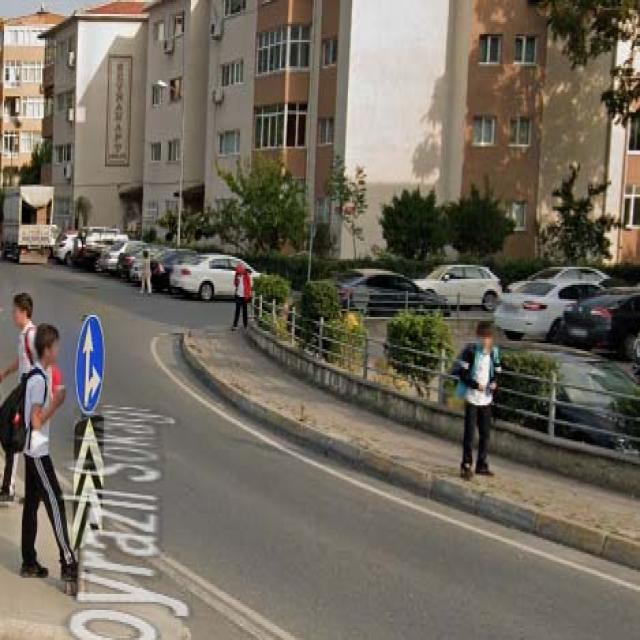ilerisag: (72, 315, 108, 413)
